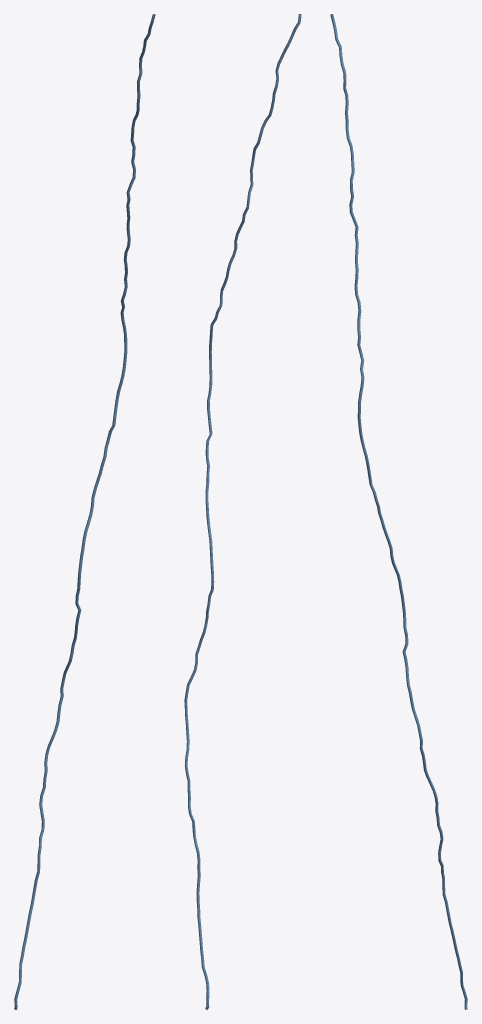
File: sweep48.fbx
3 renders of one model, left to right at view 1: azimuth 90°, elevation 25°; view 2: azimuth 150°, elevation 25°; view 3: azimuth 270°, elevation 25°, orthographic. The views are drawn at different scales.
Parts seen in each view (by area): view 1: sweep48; view 2: sweep48; view 3: sweep48.
Part boxes in pixels (bbox=[...]): sweep48: bbox=[14, 14, 155, 1009]; sweep48: bbox=[184, 14, 301, 1009]; sweep48: bbox=[330, 14, 467, 1009].
Size of the model in its own units: 0.6206 by 7.17 by 0.9099.
